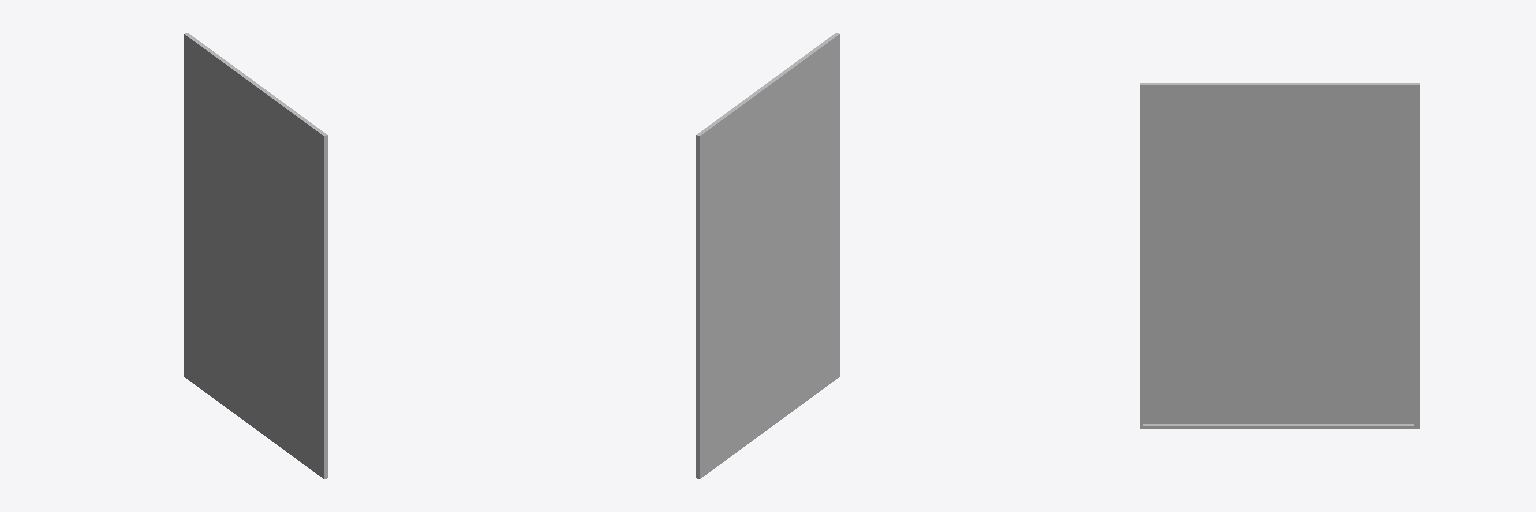
The model's file is cadre.obj.
The picture shows the model from 3 angles: view 1: azimuth 30°, elevation 25°; view 2: azimuth 150°, elevation 25°; view 3: azimuth 270°, elevation 25°; orthographic projection.
Visible parts, largest first — view 1: Cube; view 2: Cube; view 3: Cube.
Part boxes in pixels (x1,y1,x2,y2): Cube: (184, 33, 327, 478); Cube: (696, 33, 839, 478); Cube: (1140, 83, 1419, 428).
Bounding box in the file's own units: 0.01 × 0.81 × 0.6.